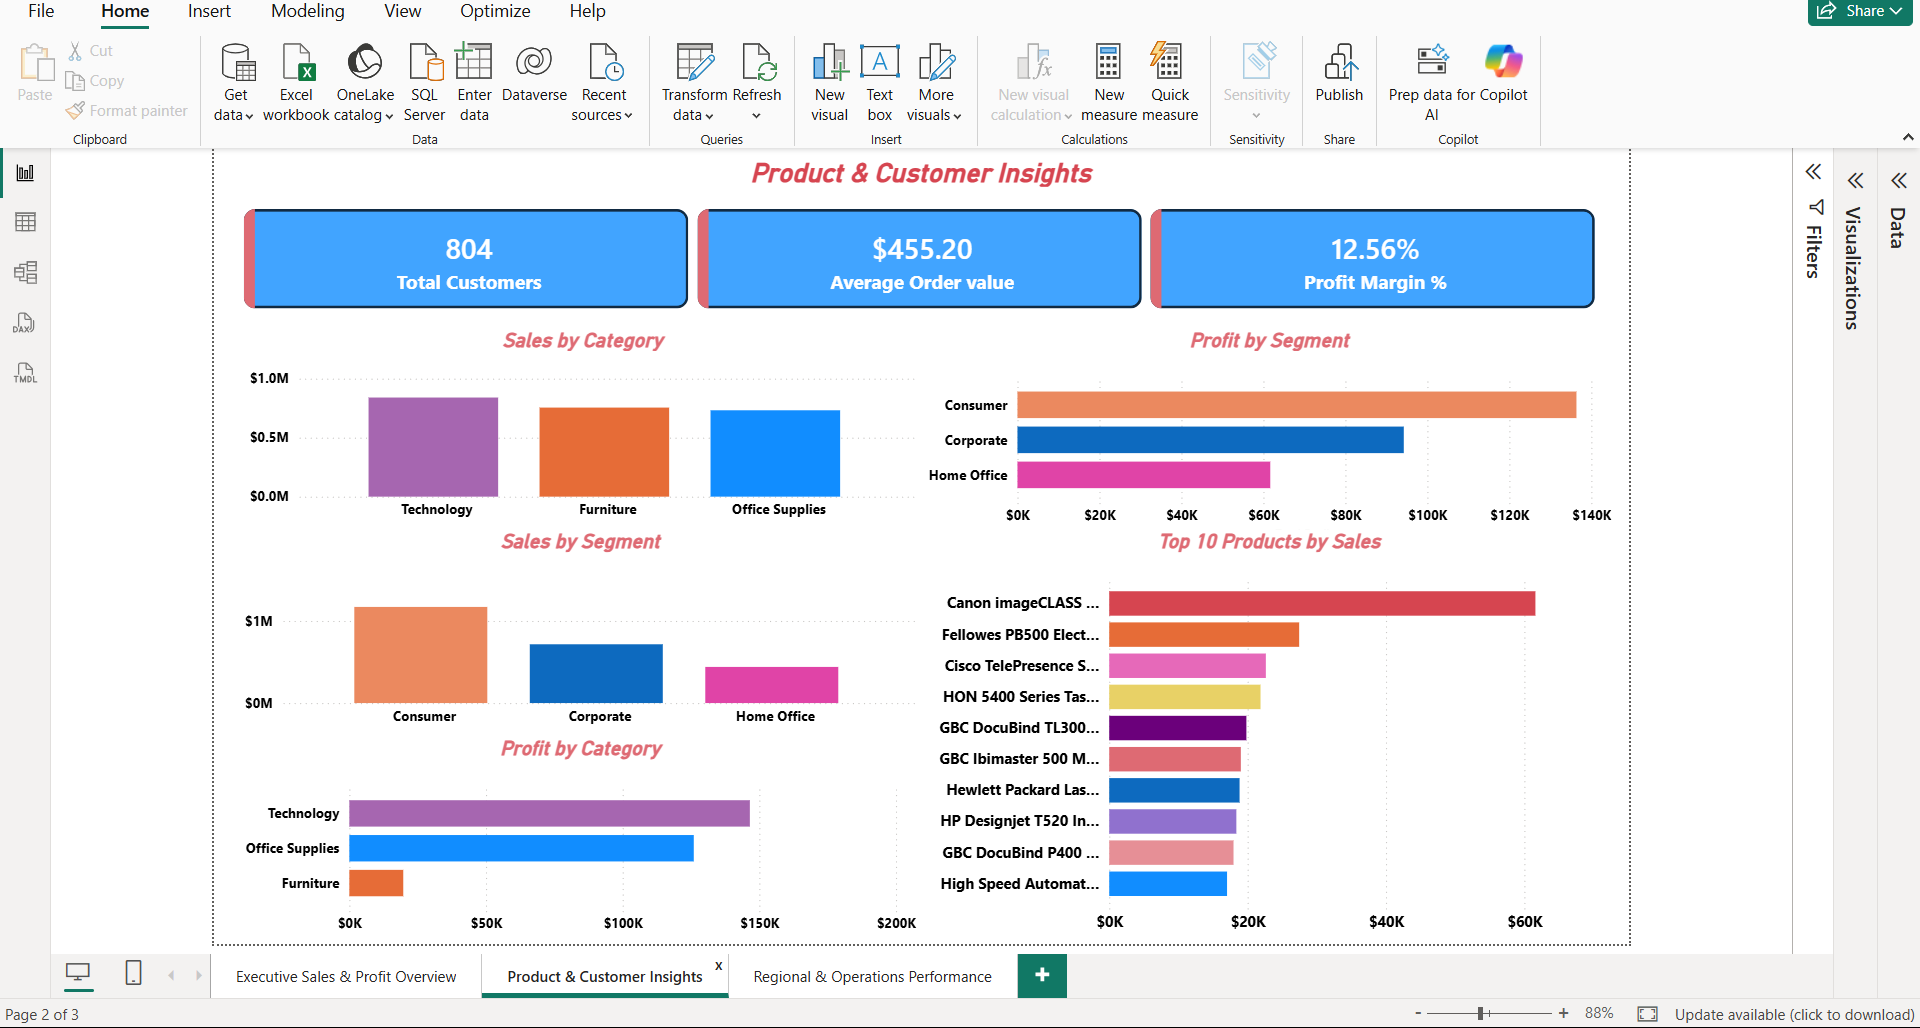

The page's visual inventory and layout, read from the dashboard file:
{"tool":"powerbi","page":{"name":"Product & Customer Insights","canvas":[1280,720],"ordinal":1},"visuals":[{"type":"clusteredColumnChart","title":"Sales by Category","fields":{"Y":["sales_performance sales_data.Total Sales"],"Category":["sales_performance sales_data.category"]},"box":[26.7,162.8,612.8,182.6],"z":0},{"type":"barChart","title":"Profit by Category","fields":{"Category":["sales_performance sales_data.category"],"Y":["sales_performance sales_data.Total Profit"]},"box":[22.1,532.6,617.4,187.2],"z":1000},{"type":"clusteredColumnChart","title":"Sales by Segment","fields":{"Y":["sales_performance sales_data.Total Sales"],"Category":["sales_performance sales_data.segment"]},"box":[22.1,345.3,617.4,187.2],"z":2000},{"type":"barChart","title":"Profit by Segment","fields":{"Category":["sales_performance sales_data.segment"],"Y":["sales_performance sales_data.Total Profit"]},"box":[639.5,162.8,629.1,197.7],"z":3000},{"type":"clusteredBarChart","title":"Top 10 Products by Sales","fields":{"Category":["sales_performance sales_data.product_name"],"Y":["sales_performance sales_data.Total Sales"]},"box":[639.5,345.3,629.1,374.4],"z":4000},{"type":"cardVisual","title":"Product & Customer Insights","fields":{"Data":["sales_performance sales_data.Total Customers","sales_performance sales_data.Average Order value","sales_performance sales_data.Profit Margin %"]},"box":[10.5,8.1,1258.1,154.7],"z":5000}]}

Visuals, with their boxes on the page's 1280x720 design canvas (x1, y1, x2, y2). These are canvas units, not pixel positions in the 1920x1028 screenshot, which may show the page scaled, cropped or inside an application window:
"Sales by Category" clusteredColumnChart: 27:163:640:345
"Profit by Category" barChart: 22:533:640:720
"Sales by Segment" clusteredColumnChart: 22:345:640:532
"Profit by Segment" barChart: 640:163:1269:360
"Top 10 Products by Sales" clusteredBarChart: 640:345:1269:720
"Product & Customer Insights" cardVisual: 10:8:1269:163
